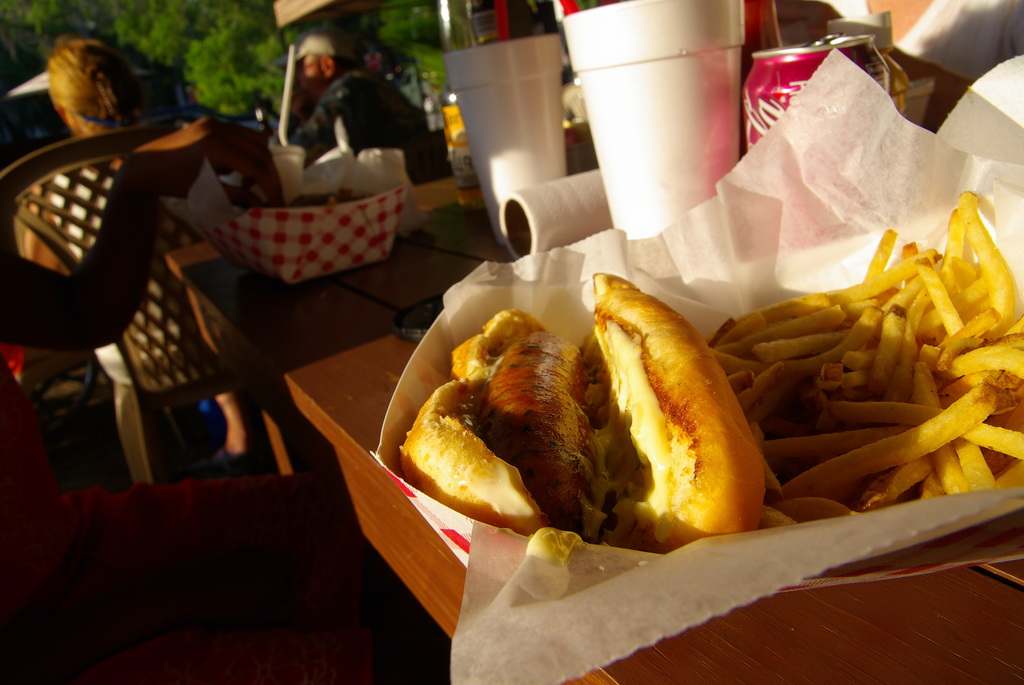French fries: (698, 181, 1023, 541)
